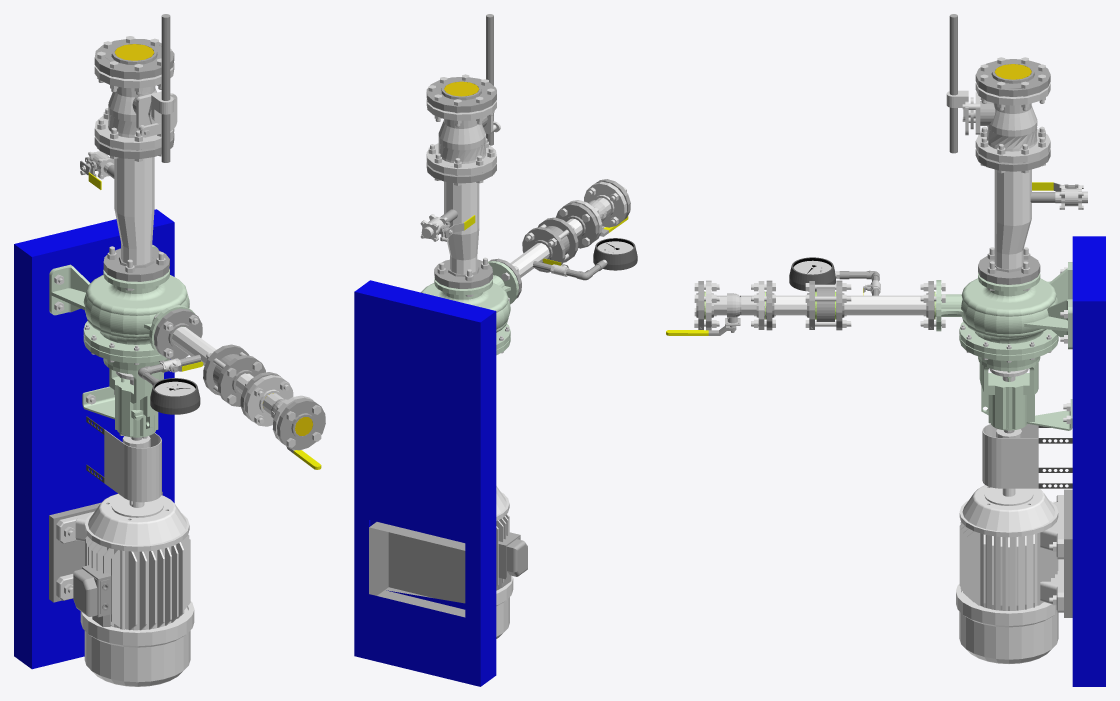
File: ProcessPump.glb
3 renders of one model, left to right at view 1: azimuth 30°, elevation 25°; view 2: azimuth 150°, elevation 25°; view 3: azimuth 270°, elevation 25°, orthographic. The views are drawn at different scales.
Parts seen in each view (by area): view 1: MeshBody1.219, MeshBody1.166, MeshBody1.174, MeshBody1.217, MeshBody2.008, MeshBody1.163, MeshBody1.223, MeshBody1.218, MeshBody1.164, MeshBody4.001, MeshBody1.117, MeshBody21 (+14 smaller); view 2: MeshBody1.219, MeshBody1.218, MeshBody1.163, MeshBody2.008, MeshBody1.117, MeshBody1.174, MeshBody1.164, MeshBody1.013, MeshBody21, MeshBody1.166, MeshBody1.030, MeshBody1.015 (+8 smaller); view 3: MeshBody1.166, MeshBody1.219, MeshBody1.217, MeshBody1.174, MeshBody2.008, MeshBody1.163, MeshBody1.223, MeshBody1.117, MeshBody1.013, MeshBody21, MeshBody1.218, MeshBody1.027 (+10 smaller).
Boxes of the visible parts, box(x1,y1,x2,y2) form: MeshBody1.219: box(14, 209, 174, 669); MeshBody1.166: box(80, 493, 194, 686); MeshBody1.174: box(83, 275, 189, 344); MeshBody1.217: box(82, 321, 169, 436); MeshBody2.008: box(154, 308, 273, 410); MeshBody1.163: box(114, 157, 154, 265); MeshBody1.223: box(104, 429, 161, 502); MeshBody1.218: box(49, 492, 162, 602); MeshBody1.164: box(73, 564, 111, 627); MeshBody4.001: box(277, 398, 325, 450); MeshBody1.117: box(94, 38, 174, 79); MeshBody21: box(150, 378, 200, 414); MeshBody1.219: box(354, 280, 496, 686); MeshBody1.218: box(369, 522, 465, 617); MeshBody1.163: box(444, 181, 479, 274); MeshBody2.008: box(489, 217, 582, 298); MeshBody1.117: box(426, 77, 496, 112); MeshBody1.174: box(421, 283, 510, 332); MeshBody1.164: box(496, 532, 527, 590); MeshBody1.013: box(438, 119, 485, 150); MeshBody21: box(593, 238, 637, 270); MeshBody1.166: box(496, 486, 513, 638); MeshBody1.030: box(434, 259, 492, 288); MeshBody1.015: box(426, 143, 496, 175); MeshBody1.166: box(956, 485, 1058, 663); MeshBody1.219: box(1072, 236, 1105, 686); MeshBody1.217: box(959, 322, 1072, 430); MeshBody1.174: box(961, 278, 1058, 343); MeshBody2.008: box(774, 280, 935, 330); MeshBody1.163: box(994, 169, 1031, 269); MeshBody1.223: box(982, 423, 1038, 488); MeshBody1.117: box(975, 59, 1050, 96); MeshBody1.013: box(987, 103, 1037, 136); MeshBody21: box(789, 257, 835, 291); MeshBody1.218: box(1064, 489, 1072, 617); MeshBody1.027: box(949, 14, 957, 153).
Size of the model in its own units: 0.5265 by 2.15 by 1.34.
